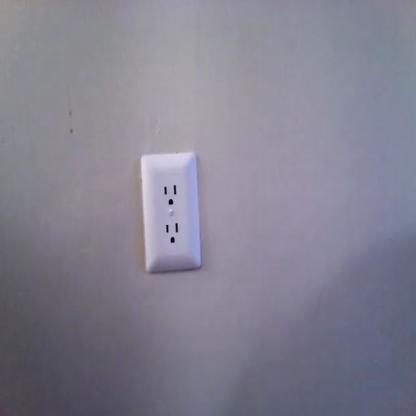OUTLET: (140, 154, 202, 272)
